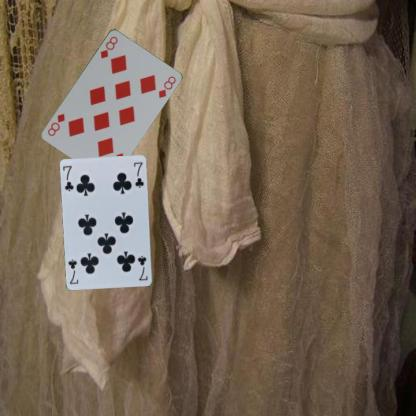7c: (61, 163, 75, 193), (135, 253, 149, 282)
8d: (98, 34, 119, 60)
